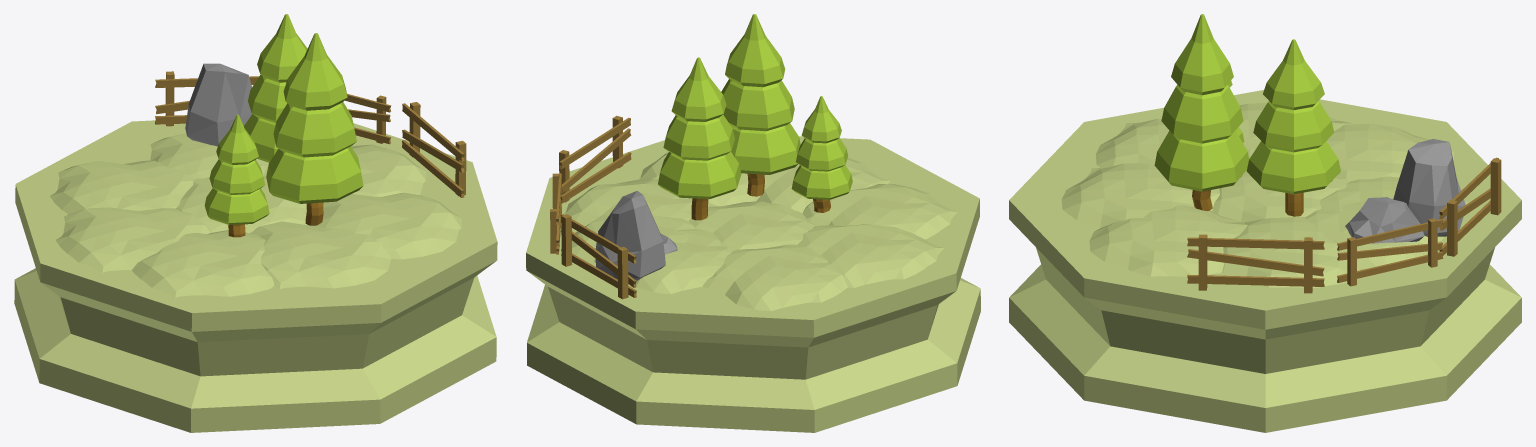
File: nature.glb
The picture shows the model from 3 angles, left to right: view 1: azimuth 30°, elevation 25°; view 2: azimuth 150°, elevation 25°; view 3: azimuth 270°, elevation 25°; orthographic projection. The views are drawn at different scales.
Visible parts, largest first — view 1: Ground_material (×9), Trees_material, Fences_material (×3), Rocks_material, Bark_material; view 2: Ground_material (×10), Trees_material, Fences_material (×3), Rocks_material, Bark_material; view 3: Ground_material (×10), Trees_material, Fences_material (×3), Rocks_material (×2), Bark_material.
Part boxes in pixels (bbox=[...]): Ground_material (×9): bbox=[14, 120, 497, 432]; Trees_material: bbox=[204, 14, 363, 224]; Fences_material (×3): bbox=[155, 71, 466, 197]; Rocks_material: bbox=[185, 63, 251, 146]; Bark_material: bbox=[228, 202, 323, 237]; Ground_material (×10): bbox=[526, 136, 980, 432]; Trees_material: bbox=[658, 14, 852, 199]; Fences_material (×3): bbox=[550, 115, 636, 299]; Rocks_material: bbox=[595, 191, 665, 280]; Bark_material: bbox=[691, 173, 830, 220]; Ground_material (×10): bbox=[1009, 90, 1521, 432]; Trees_material: bbox=[1154, 14, 1340, 194]; Fences_material (×3): bbox=[1187, 157, 1501, 293]; Rocks_material (×2): bbox=[1345, 139, 1465, 243]; Bark_material: bbox=[1192, 190, 1303, 216].
Bounding box in the file's own units: 429 × 299 × 428.
